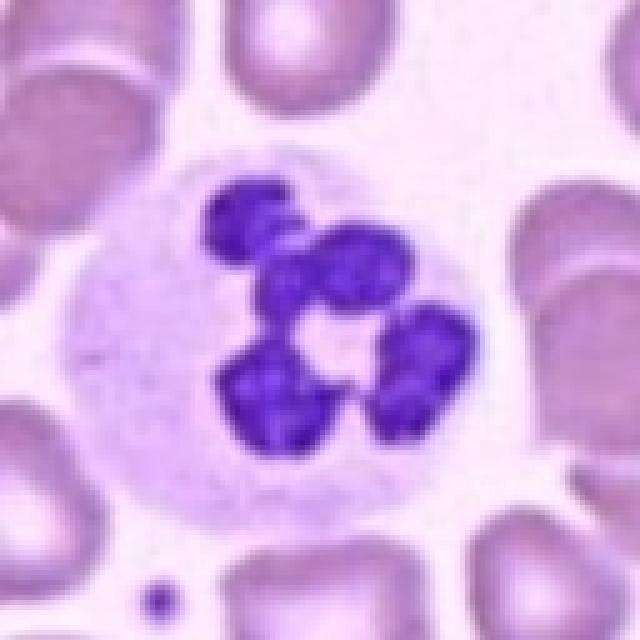neutro: (86, 102, 488, 529)
